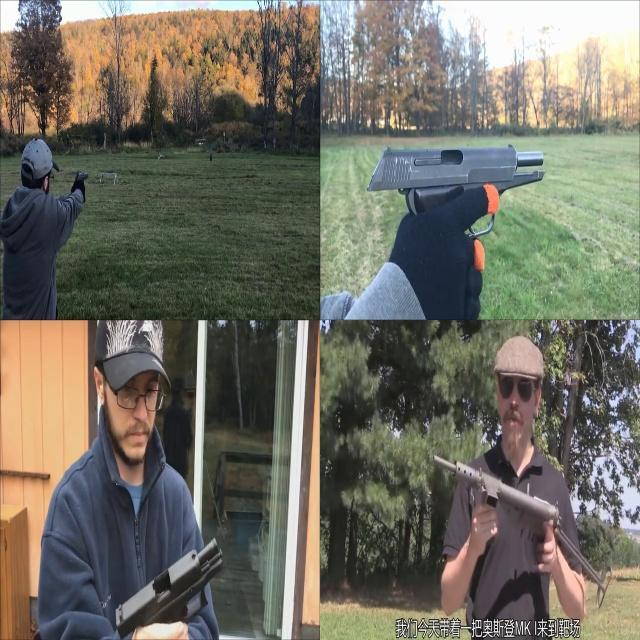gun-knife-thesis - v11 Yolov5 augmented: (359, 131, 552, 319), (423, 439, 616, 612), (100, 525, 232, 639), (67, 165, 88, 199)
